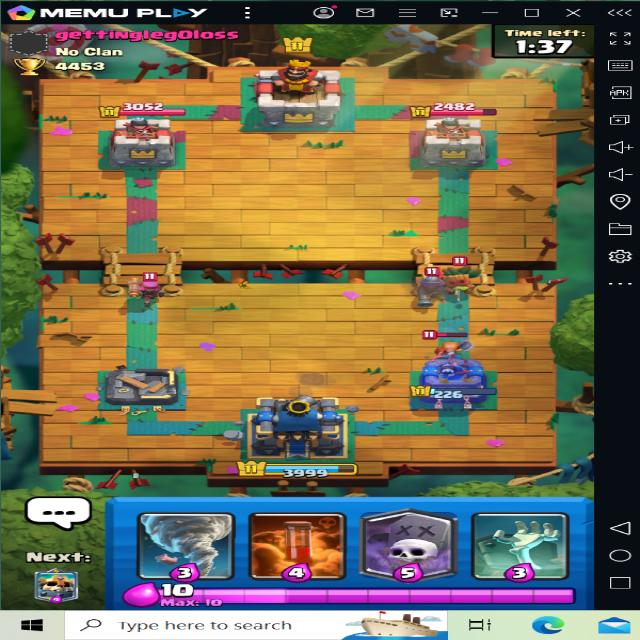Dartgoblin: (439, 255, 489, 296)
Firecracker: (116, 261, 170, 302)
Musketeer: (416, 265, 454, 306)
Valk: (428, 329, 471, 359)
